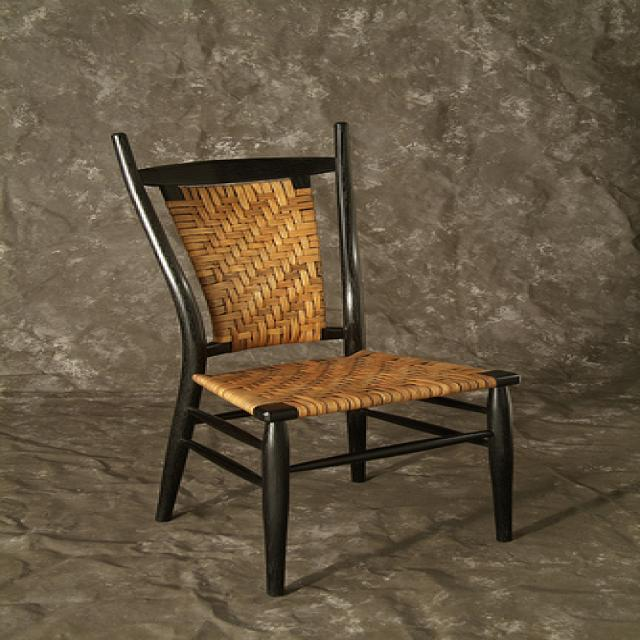chair: (109, 120, 525, 600)
